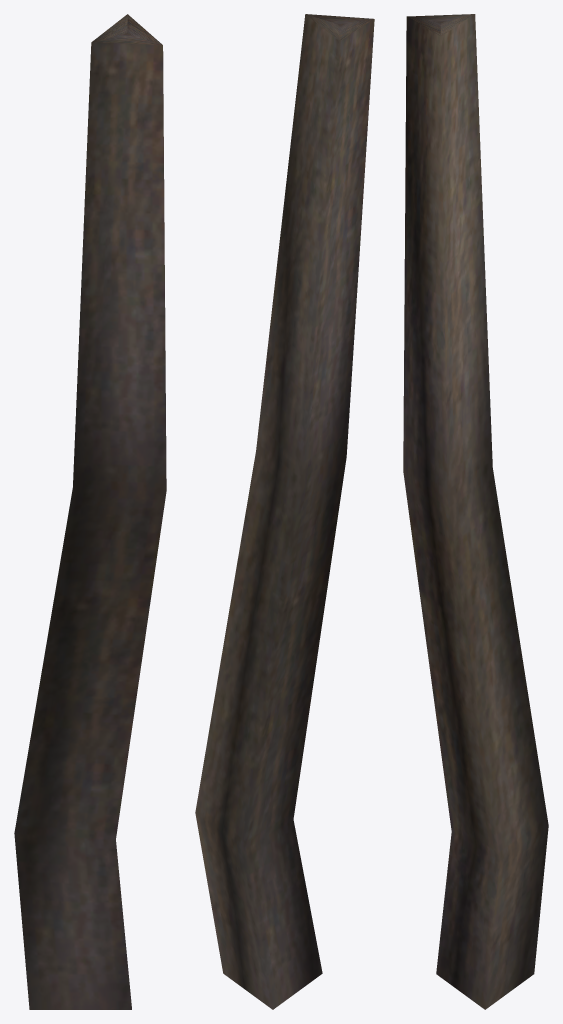
The model's file is orange10_geom.obj.
3 renders of one model, left to right at view 1: azimuth 90°, elevation 25°; view 2: azimuth 150°, elevation 25°; view 3: azimuth 270°, elevation 25°, orthographic. The views are drawn at different scales.
Parts seen in each view (by area): view 1: material0; view 2: material0; view 3: material0.
Boxes of the visible parts, box(x1,y1,x2,y2) form: material0: box(14, 14, 166, 1009); material0: box(195, 14, 374, 1009); material0: box(403, 14, 548, 1009).
Size of the model in its own units: 4.67 by 32.33 by 4.51.
